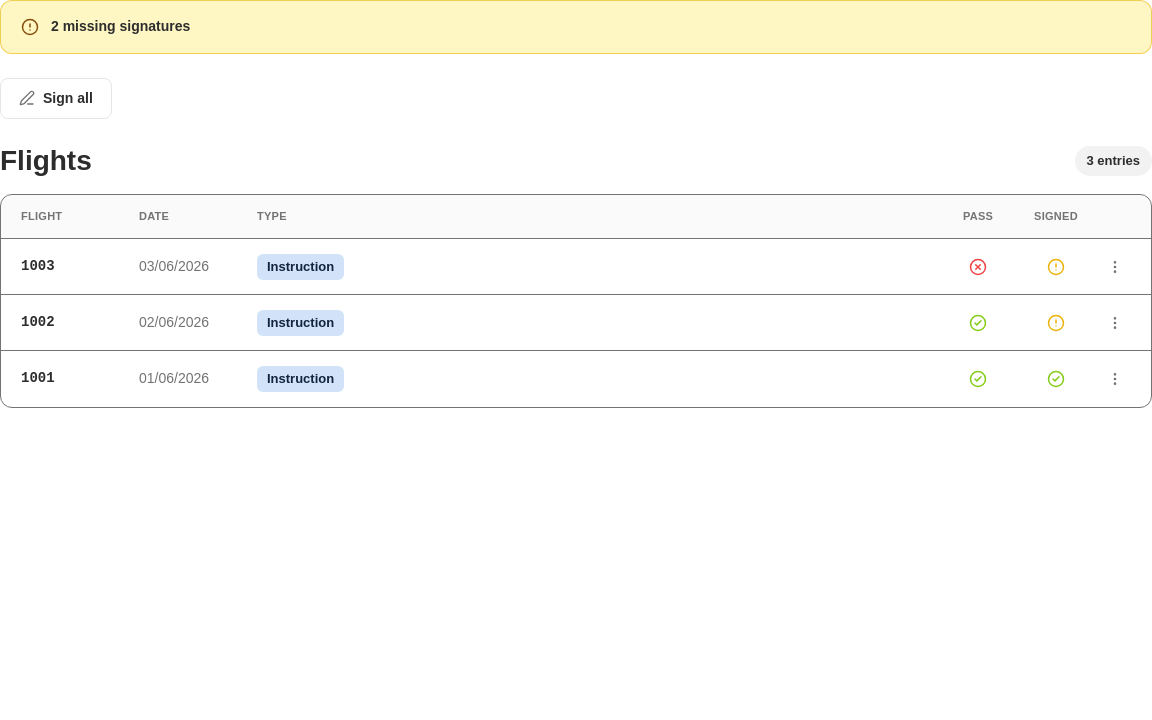
Test case: Signatures › closes the modal without signing when the close button is clicked
Click the button named "Open evaluation for flight 1002" at (1115, 323), box [1103,311,1127,335]
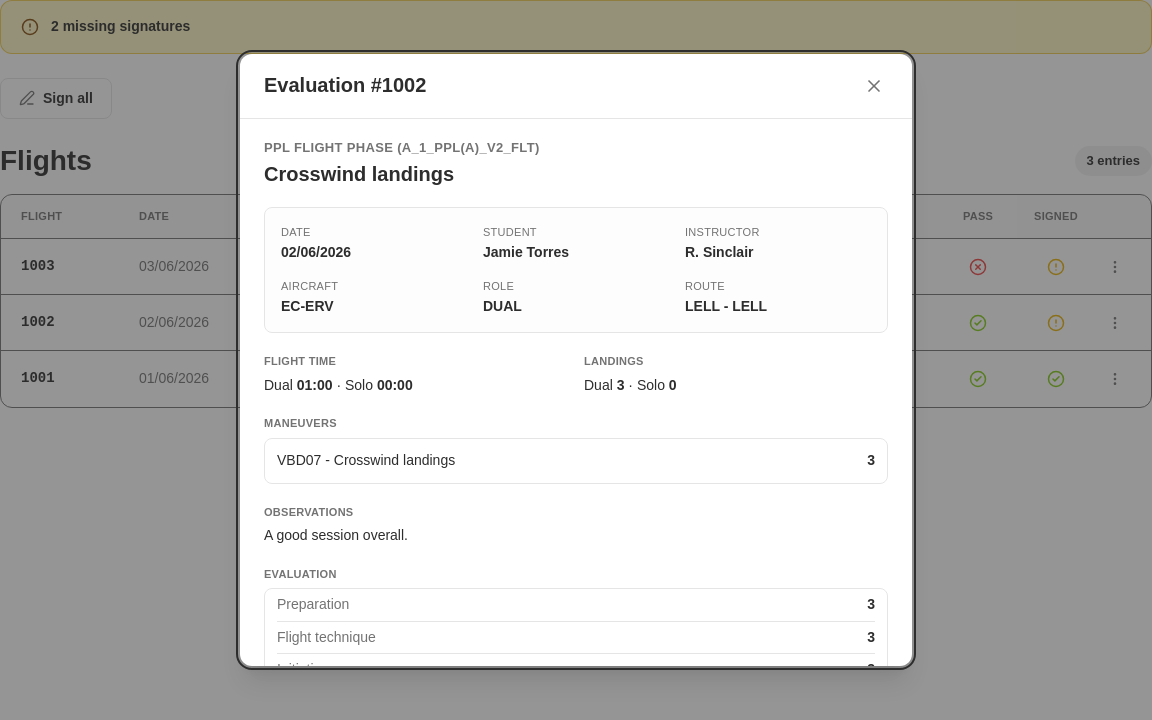
Click the button named "Close" at (874, 86), box [860,72,888,100]
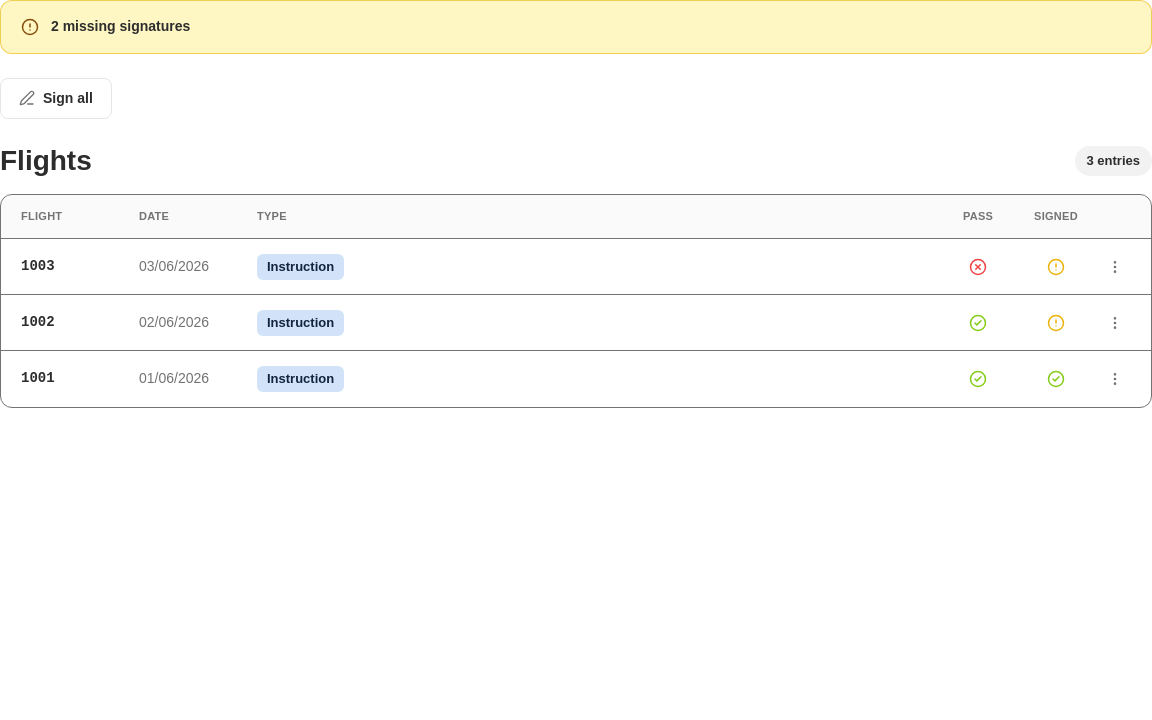
Expected: the text "2 missing signatures" is shown, [51,17,190,37]
Result: the dialog is gone
